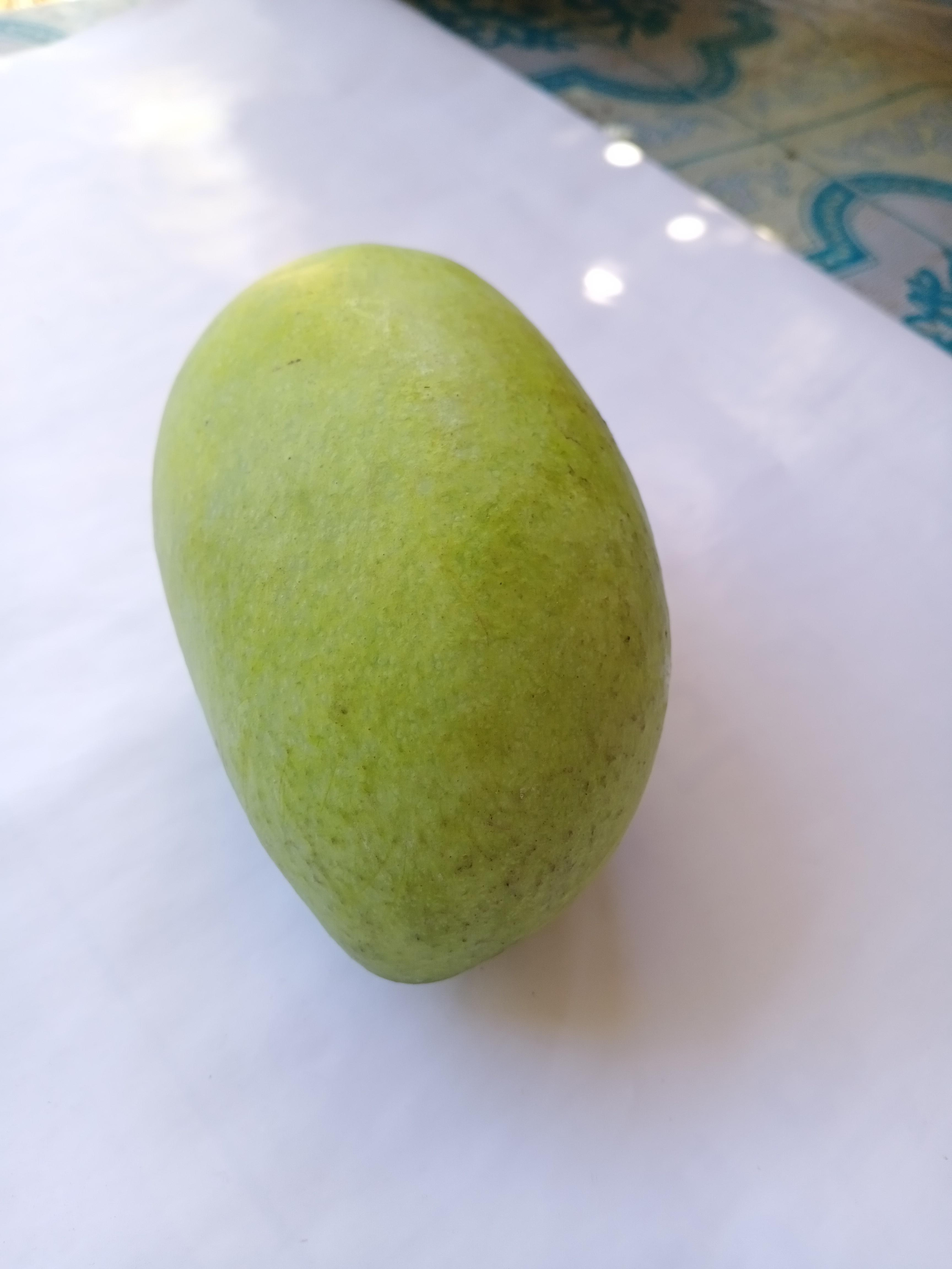Mango Unripe: (143, 226, 677, 1016)
